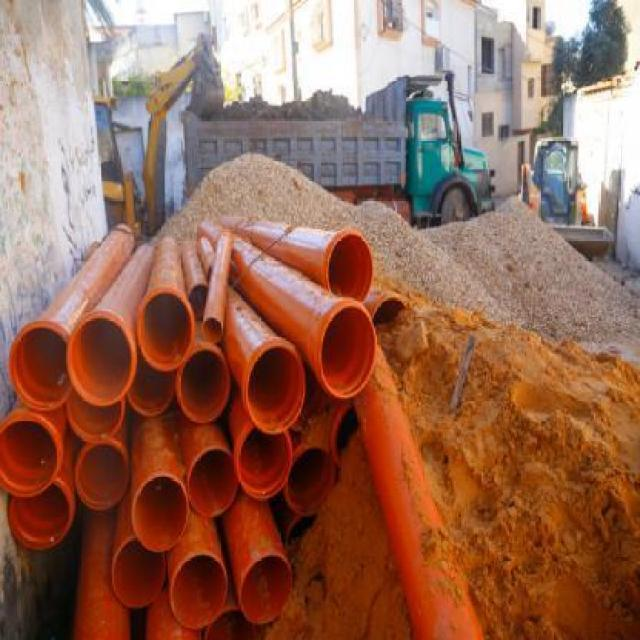pipe: (67, 311, 136, 407), (8, 319, 73, 410), (318, 302, 377, 399), (246, 342, 306, 436), (0, 412, 63, 497), (136, 286, 196, 371), (10, 477, 76, 550), (234, 425, 294, 501), (133, 474, 190, 554), (171, 553, 228, 630), (176, 345, 230, 423), (240, 554, 294, 627), (76, 439, 130, 510), (112, 537, 166, 608), (188, 448, 239, 516), (326, 232, 374, 303), (287, 448, 336, 516), (66, 388, 125, 442), (202, 317, 225, 343)
